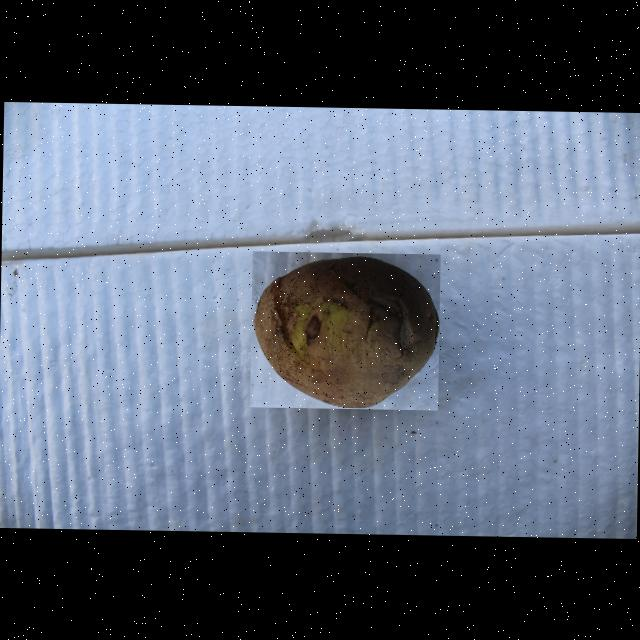Diseased-fungal potato: (250, 251, 440, 410)
